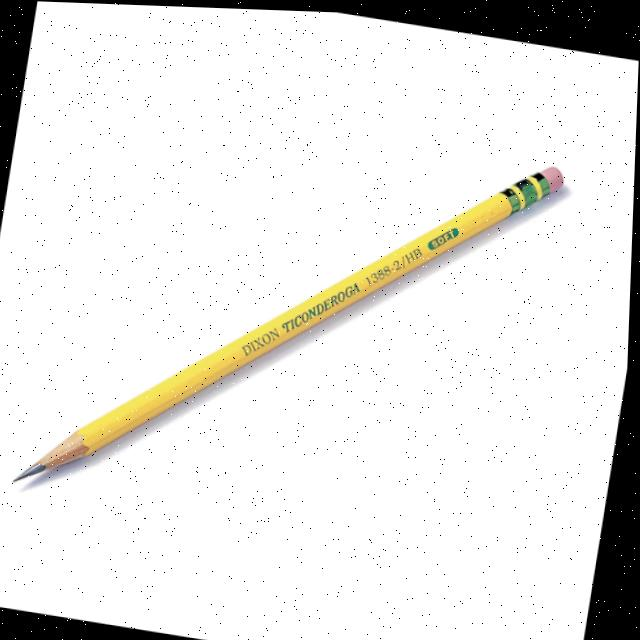pencil: (17, 162, 563, 481)
